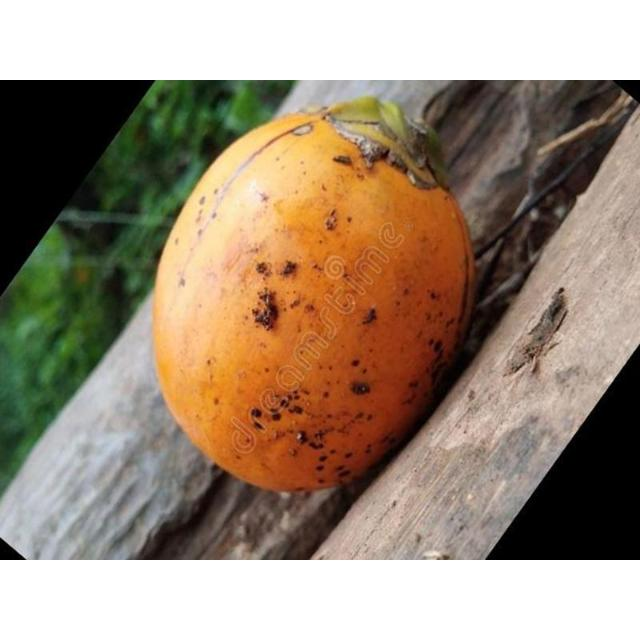good: (150, 96, 475, 496)
